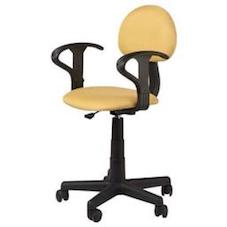chair: (40, 5, 209, 226)
